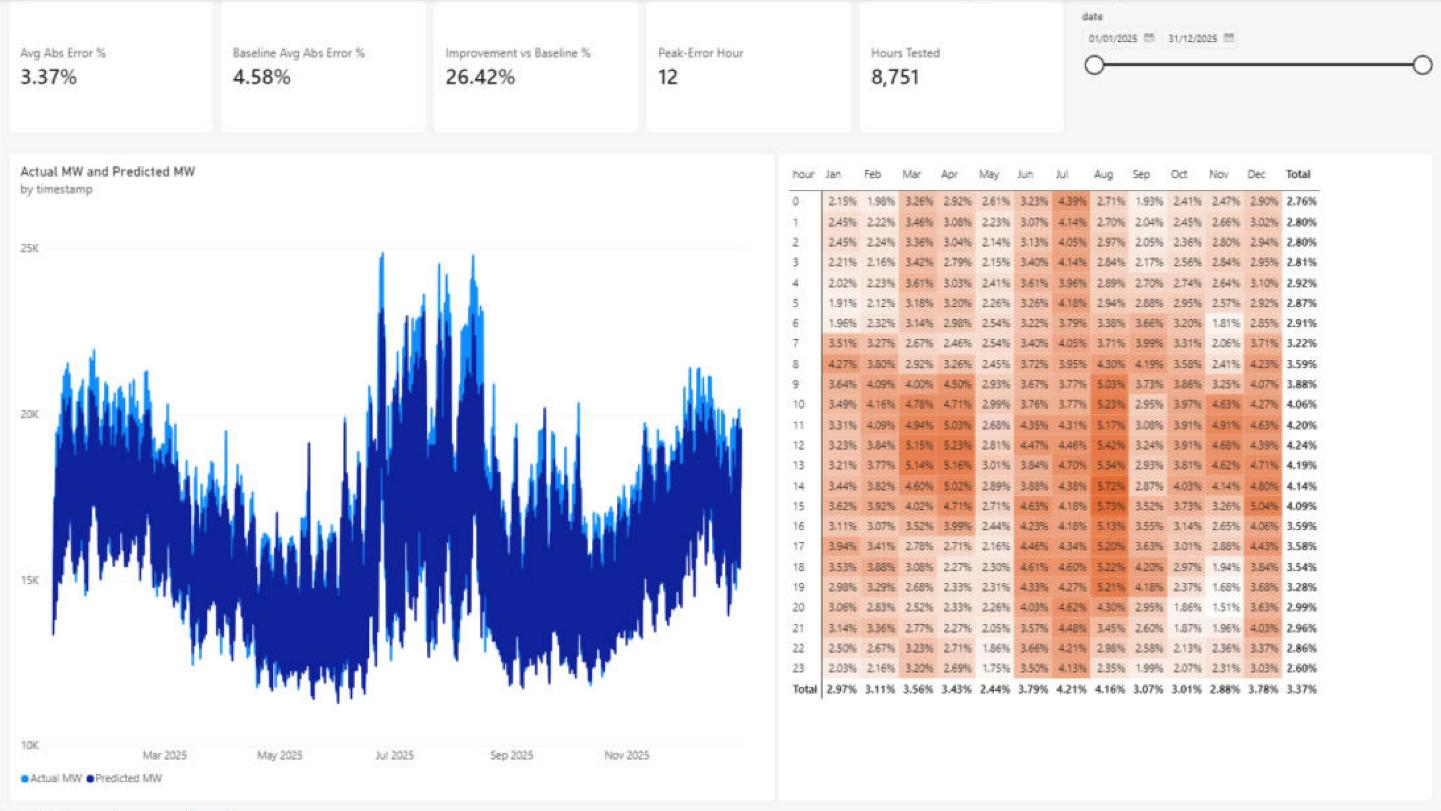

The page's visual inventory and layout, read from the dashboard file:
{"tool":"powerbi","page":{"name":"Page 1","canvas":[1920,1080],"ordinal":0},"visuals":[{"type":"cardVisual","fields":{"Data":["Forecast.Avg Abs Error %","Forecast.Baseline Avg Abs Error %","Forecast.Improvement vs Baseline %","Forecast.Peak-Error Hour","Forecast.Hours Tested"]},"box":[10.6,0,1409.9,179.6],"z":0},{"type":"slicer","fields":{"Values":["Forecast.date"]},"box":[1432.5,14.6,476.2,179.6],"z":1},{"type":"lineChart","fields":{"Category":["Forecast.timestamp"],"Y":["Forecast.Actual MW","Forecast.Predicted MW"]},"box":[10.6,203.5,1022.8,864.5],"z":2},{"type":"pivotTable","fields":{"Columns":["Forecast.month_name"],"Rows":["Forecast.hour"],"Values":["Forecast.Avg Abs Error %"]},"box":[1033.4,203.5,875.2,864.5],"z":3}]}

Visuals, with their boxes in screenshot pixels (x1, y1, x2, y2), scaled from the page's 1920x1080 canvas onto the 1441x811 screenshot:
cardVisual - Forecast.Avg Abs Error % x Forecast.Baseline Avg Abs Error %: (8,0,1066,135)
slicer - Forecast.date: (1075,11,1433,146)
lineChart - Forecast.timestamp x Forecast.Actual MW: (8,153,776,802)
pivotTable - Forecast.month_name x Forecast.hour: (776,153,1432,802)
